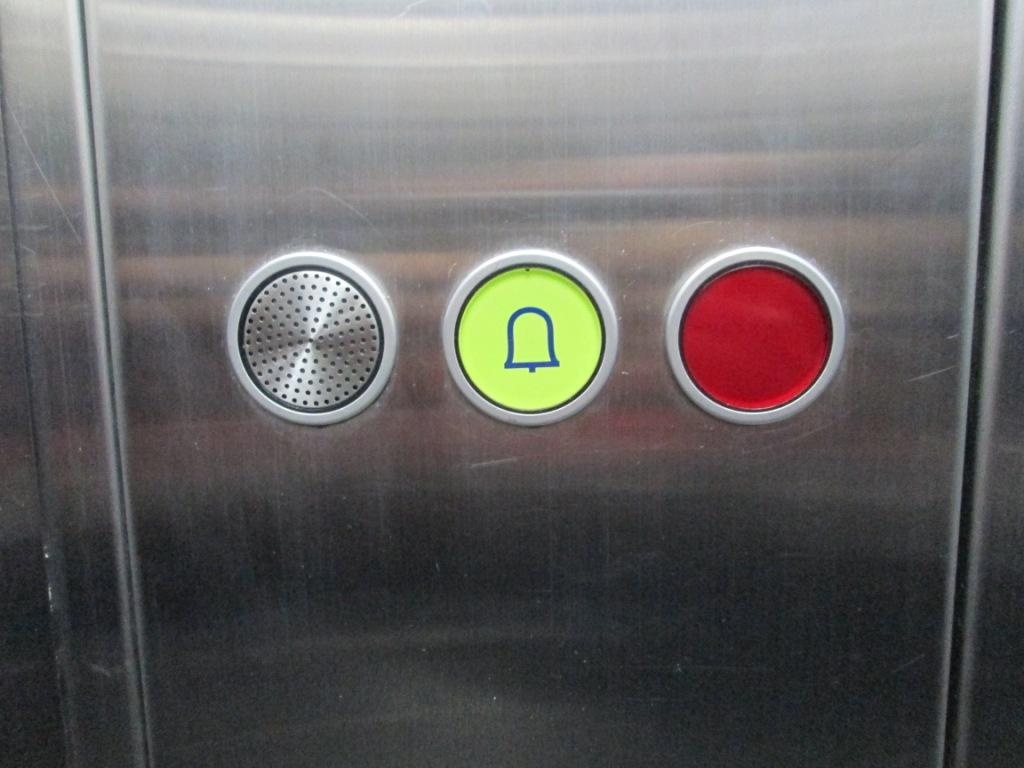alarm: (435, 244, 625, 431)
empty: (661, 240, 851, 427)
speaker: (213, 244, 409, 431)
